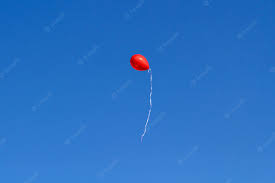Balloon: (129, 53, 151, 72)
